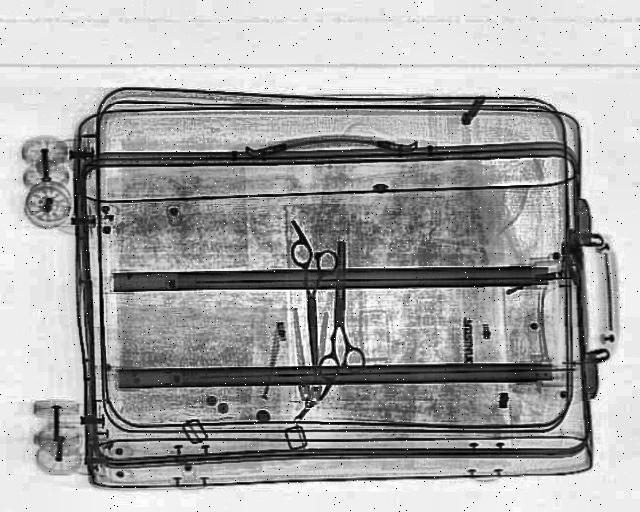Scissors: (318, 241, 368, 381), (290, 240, 342, 372)
